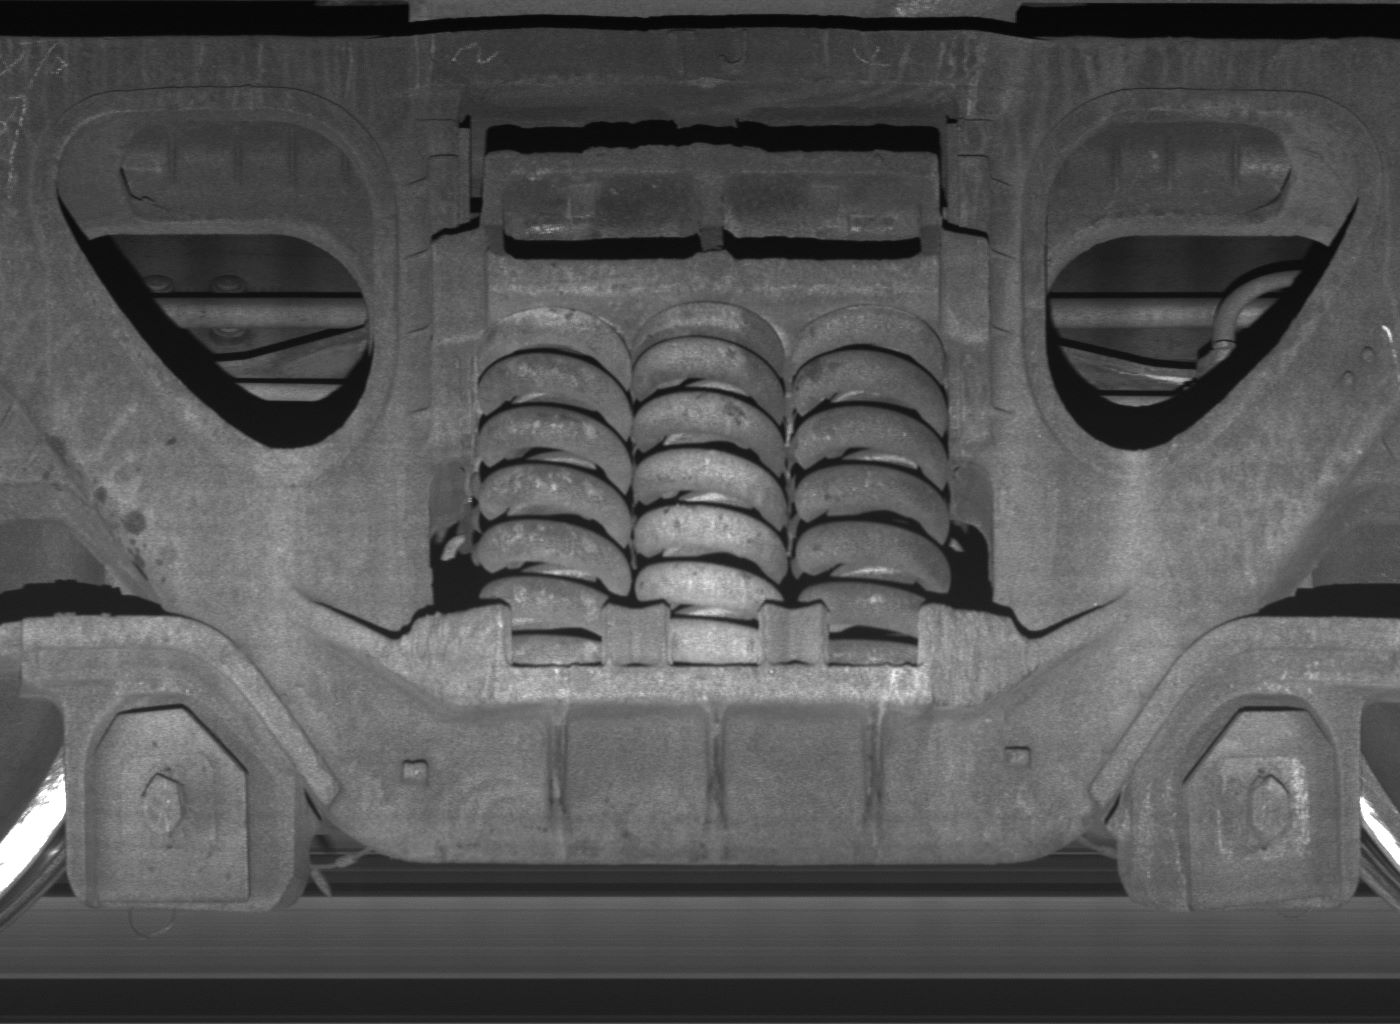normal: (66, 685, 295, 916), (1146, 679, 1361, 914)
